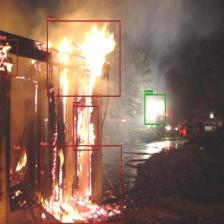fire: (40, 145, 122, 224), (47, 20, 120, 97), (73, 105, 98, 150), (0, 38, 18, 76), (14, 149, 28, 180)
